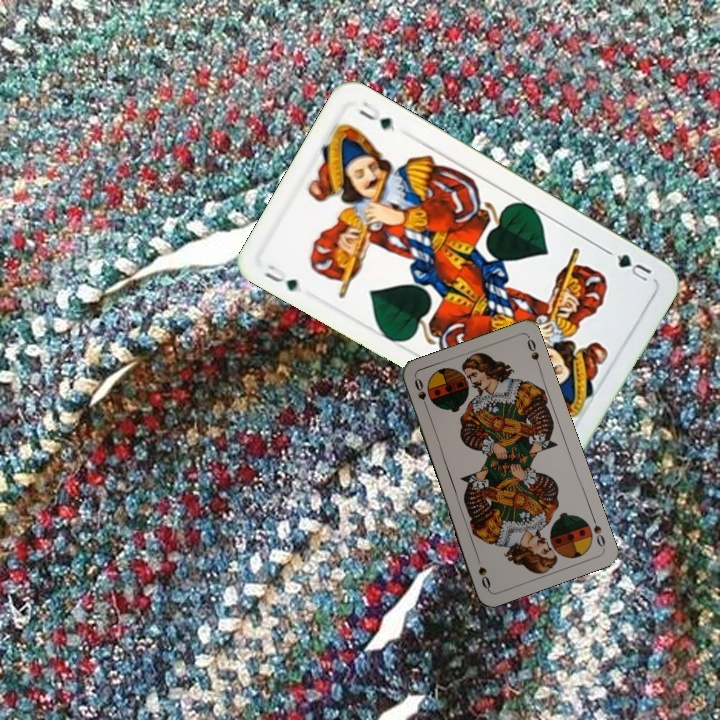GU: (603, 246, 654, 285), (259, 260, 301, 294)
SO: (410, 374, 431, 414), (588, 511, 608, 550)
